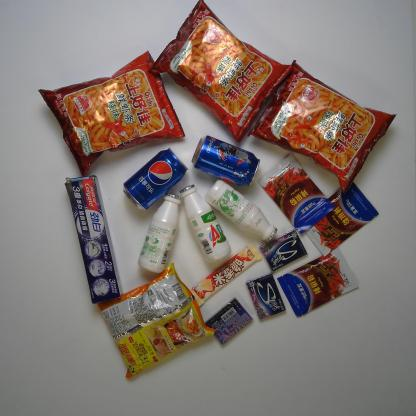Chocolate: (188, 242, 263, 308)
Drink: (122, 146, 189, 211), (190, 133, 261, 189)
Gum: (204, 297, 253, 346), (259, 228, 308, 272), (245, 272, 287, 320)
Instant Noodles: (96, 262, 216, 379)
Milk: (204, 179, 278, 243), (178, 184, 233, 263), (136, 192, 182, 274)
Personal Hygiene: (63, 173, 124, 305)
Puffed Food: (147, 0, 296, 145), (247, 59, 397, 194), (37, 50, 186, 178)
Seasoner: (258, 154, 336, 236), (277, 247, 360, 318), (305, 181, 380, 257)
